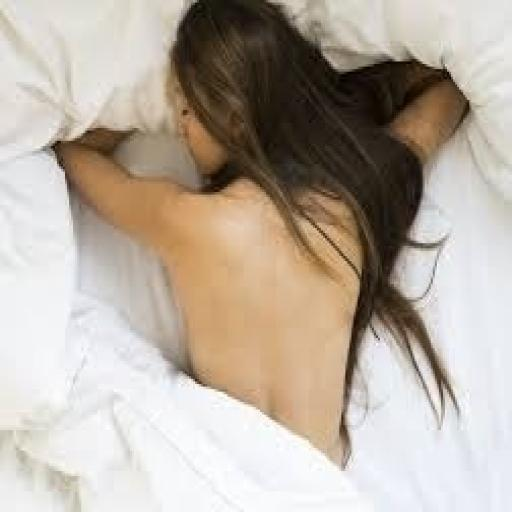sleeping: (51, 0, 473, 474)
